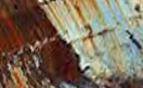rust: (1, 1, 79, 88), (67, 1, 116, 26), (85, 19, 108, 60), (124, 27, 143, 54)
